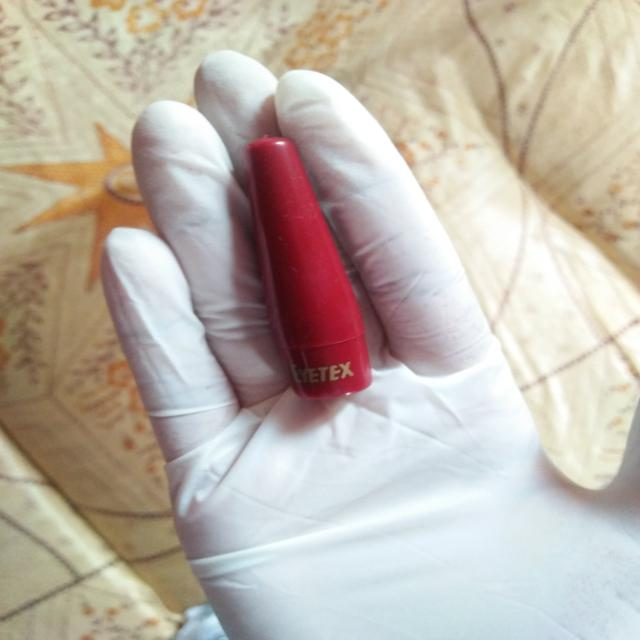Gloves: (92, 45, 640, 640)
